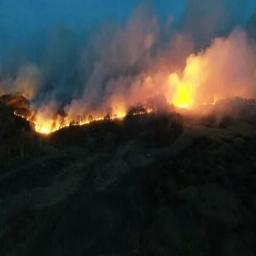Heavy smoke: (23, 11, 256, 101)
Medium fire: (32, 70, 207, 142)
